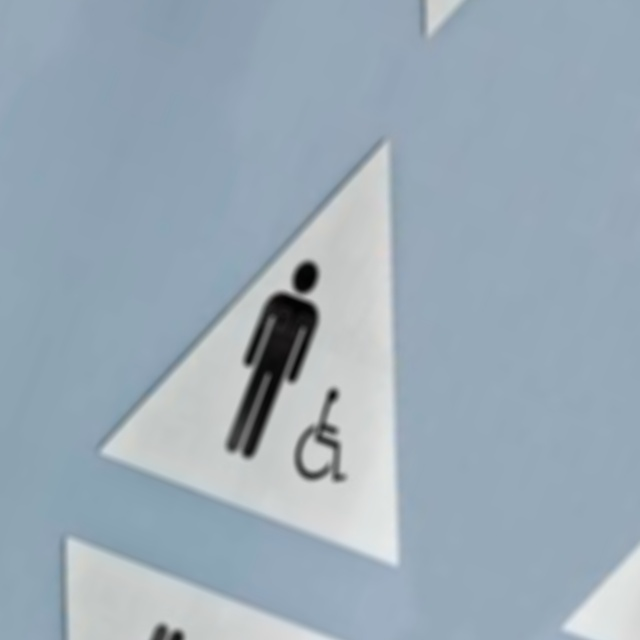ISA: (280, 374, 381, 505), (180, 636, 281, 640)
